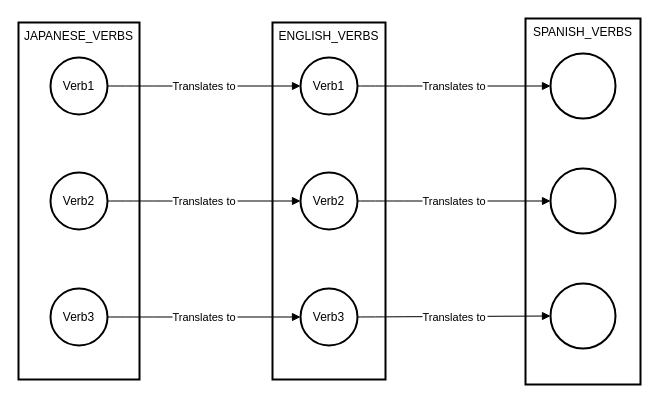
Image size: 658x402. Some labels were removed from this diagram. The shapes that lost their labels are listed below. From the top down, each one's centre as x and y in pixels, then its label:
At point 582,85: "Verbo1".
At point 582,200: "Verbo2".
At point 582,315: "Verbo3".
